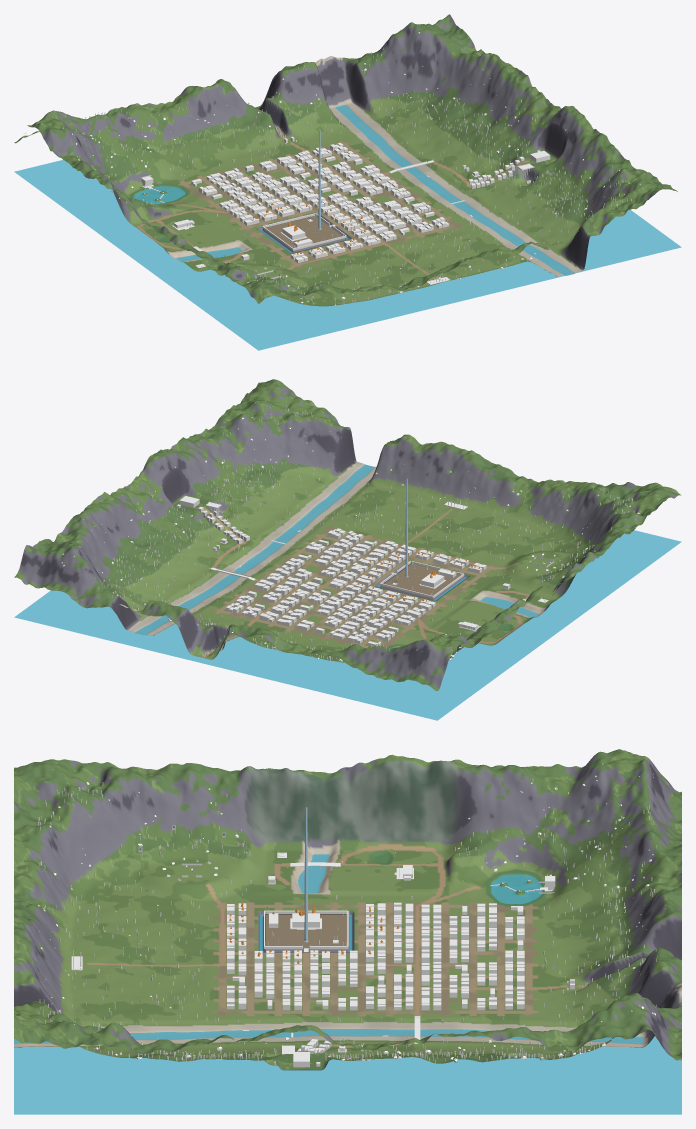
Rendered from world_kyoto.core.glb.
The picture shows the model from 3 angles, top to bottom: view 1: azimuth 30°, elevation 25°; view 2: azimuth 150°, elevation 25°; view 3: azimuth 270°, elevation 25°; orthographic projection. The views are drawn at different scales.
Visible parts, largest first — view 1: Terrain, Water, COL_Props; view 2: Terrain, Water, COL_Props; view 3: Terrain, Water, COL_Props.
Part boxes in pixels (<box>): Terrain: <box>14,14,677,306</box>; Water: <box>14,105,681,350</box>; COL_Props: <box>62,26,640,305</box>; Terrain: <box>14,379,681,690</box>; Water: <box>14,464,681,720</box>; COL_Props: <box>61,400,650,662</box>; Terrain: <box>14,749,681,1070</box>; Water: <box>14,854,681,1114</box>; COL_Props: <box>38,763,657,1067</box>.
Size of the model in its own units: 720 by 167 by 720.
